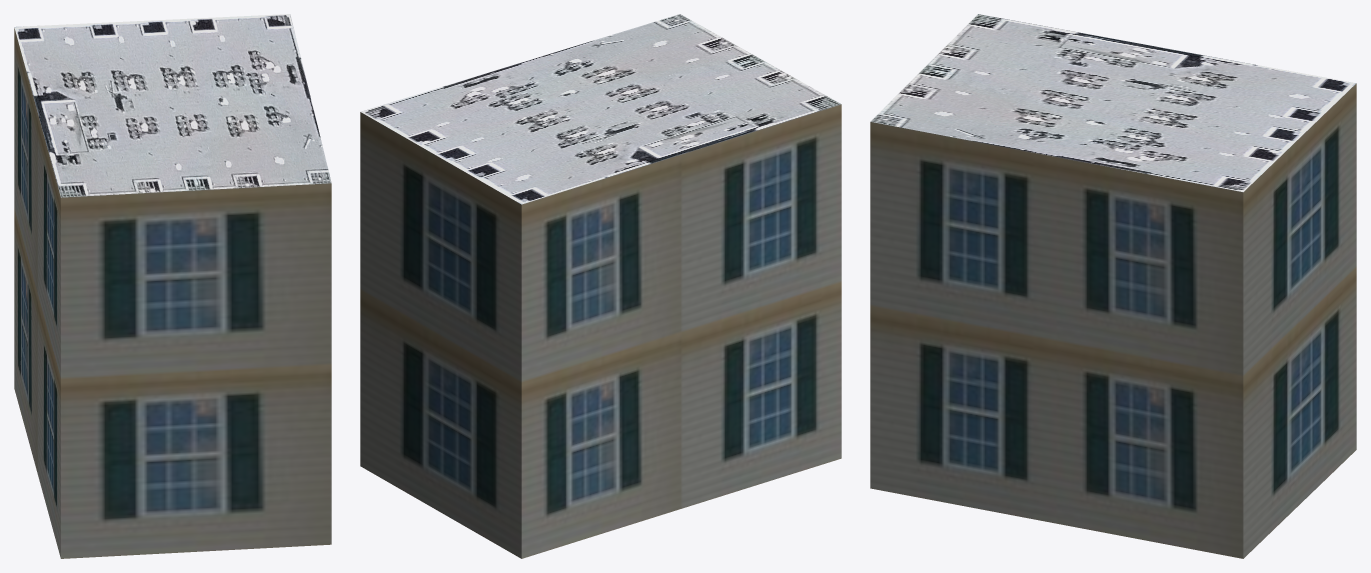
Rendered from ResTex__2081.fbx.
The picture shows the model from 3 angles, left to right: view 1: azimuth 30°, elevation 25°; view 2: azimuth 150°, elevation 25°; view 3: azimuth 270°, elevation 25°; orthographic projection. The views are drawn at different scales.
Visible parts, largest first — view 1: CityEngineMaterial_7_m, CityEngineMaterial_m; view 2: CityEngineMaterial_7_m, CityEngineMaterial_m; view 3: CityEngineMaterial_7_m, CityEngineMaterial_m.
Boxes of the visible parts, bbox=[...] form: CityEngineMaterial_7_m: bbox=[14, 28, 331, 558]; CityEngineMaterial_m: bbox=[14, 14, 331, 197]; CityEngineMaterial_7_m: bbox=[360, 104, 841, 558]; CityEngineMaterial_m: bbox=[360, 14, 841, 204]; CityEngineMaterial_7_m: bbox=[870, 83, 1356, 558]; CityEngineMaterial_m: bbox=[870, 14, 1356, 192].
Bounding box in the file's own units: 6.26 × 6 × 7.21.
Materials: 2 (2 with a texture image).
